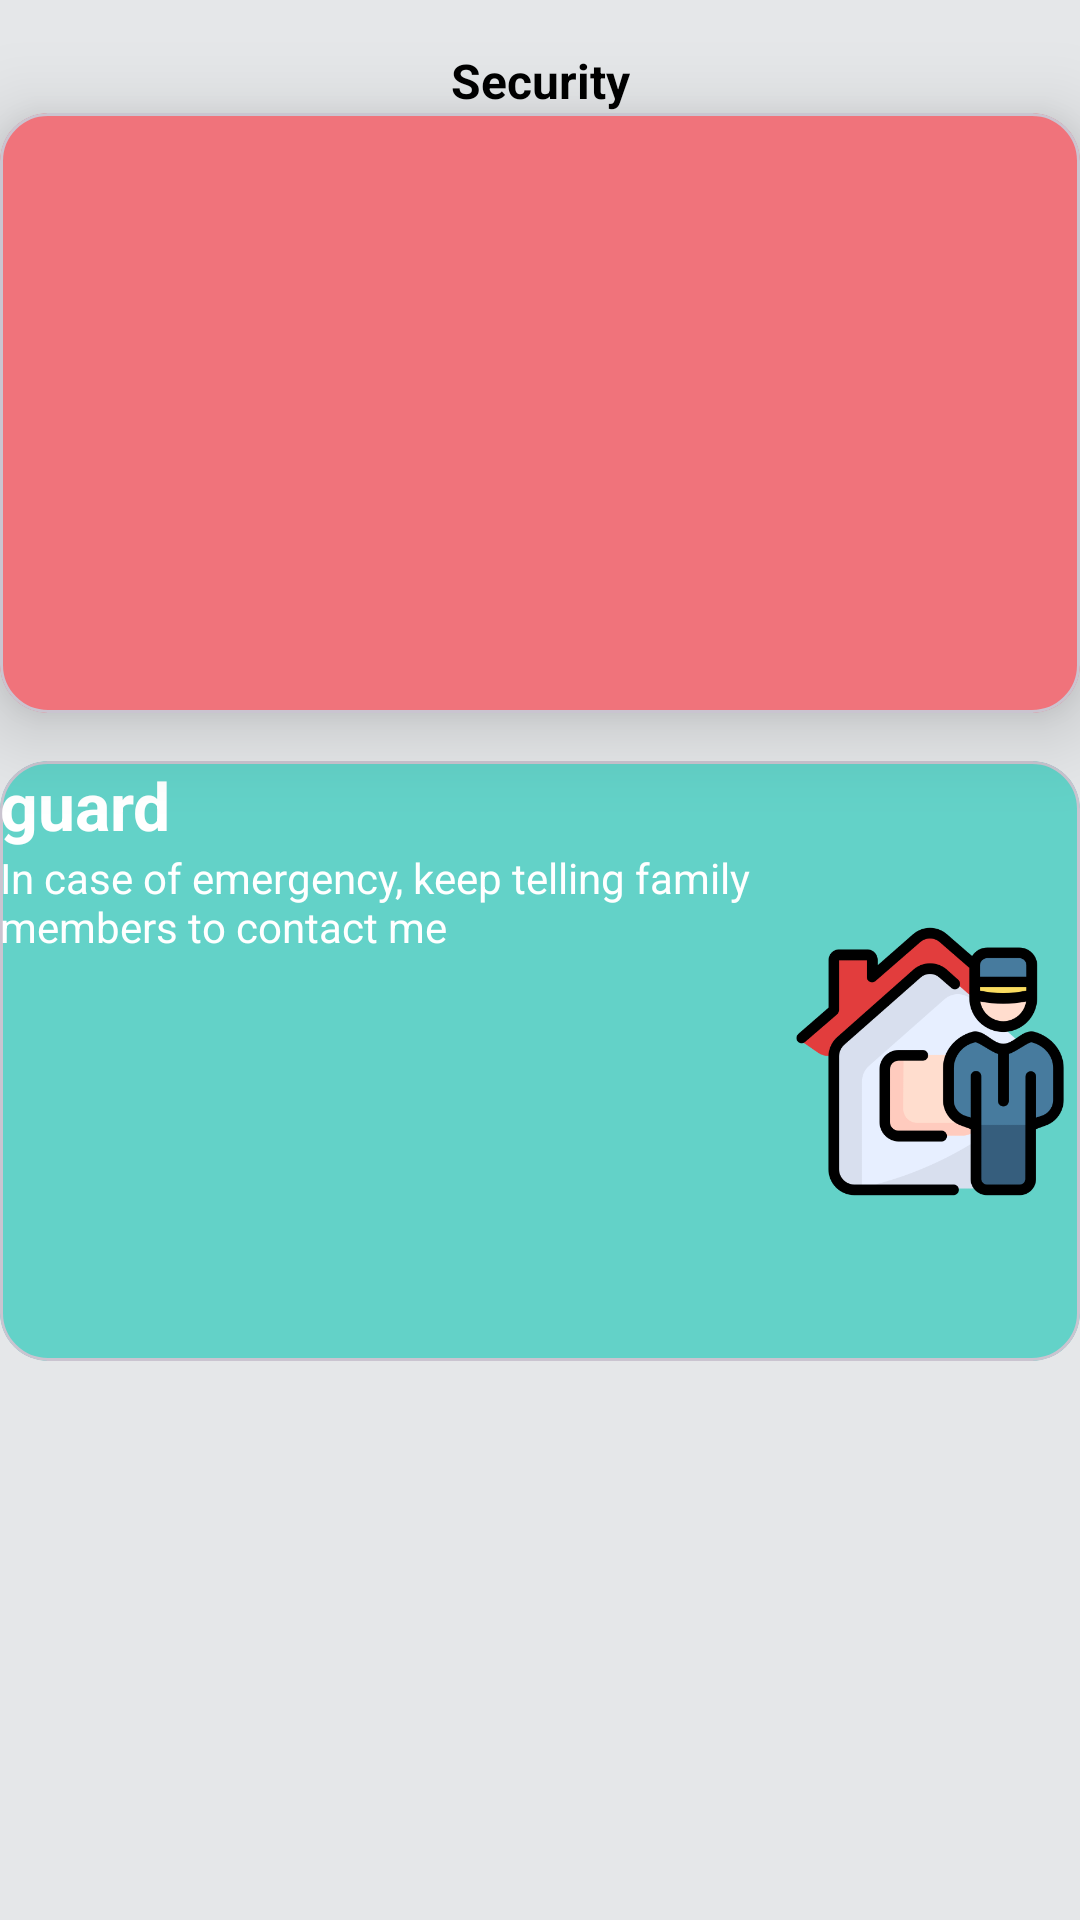

Named icons in this screenshot (1080 x 1920) and their centers, (x,y):
gurad: (930,1061)
